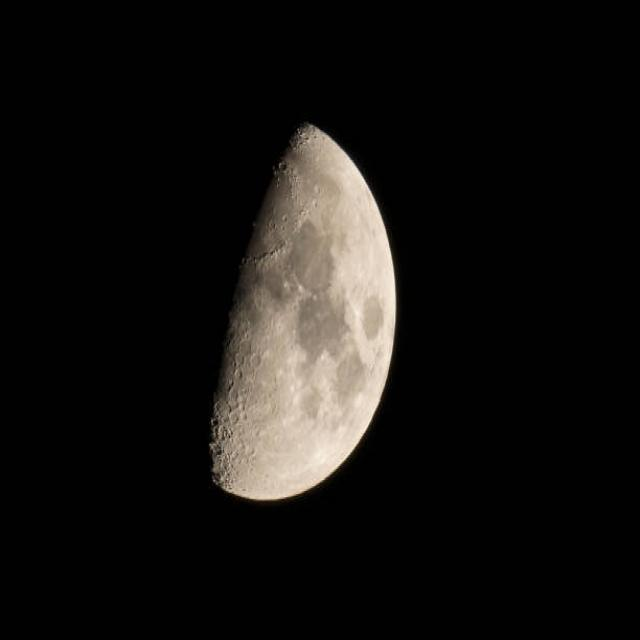moon: (122, 116, 398, 504)
